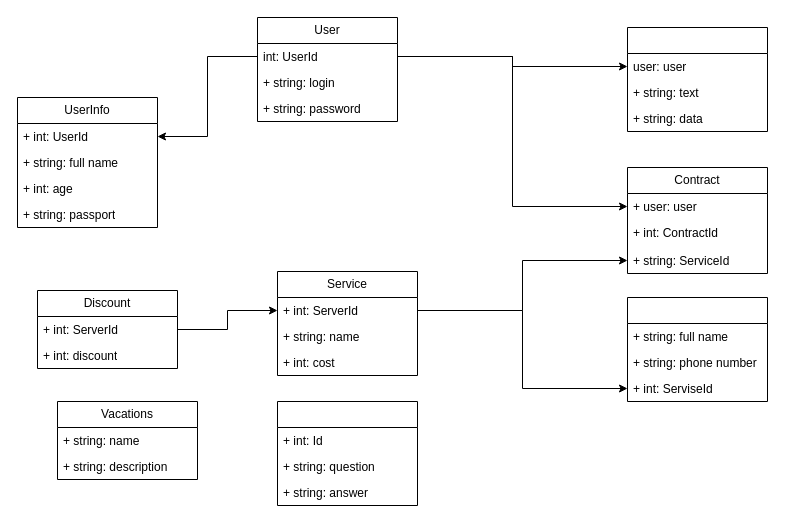
The diagram is 785 pixels wide and 526 high, and some of its shapes have lost their labels. The shapes that lost their labels are listed below. From the top down, each one's box as (x1, y1, x2, y2) in pixels, then its label:
(626, 26, 768, 132): Feedback
(626, 296, 768, 402): Employees
(276, 400, 418, 506): FAQ
